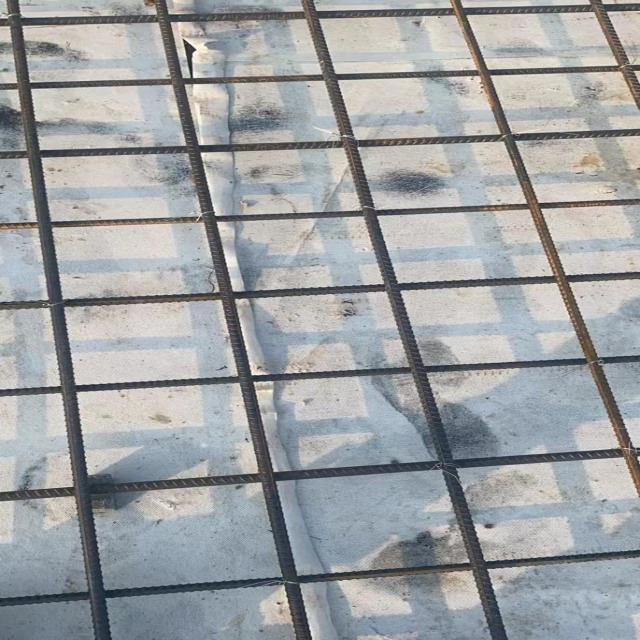ribbed bar: (297, 0, 507, 639), (154, 0, 313, 638), (449, 0, 638, 499), (5, 0, 110, 639), (0, 550, 638, 608), (0, 447, 638, 501), (0, 353, 638, 396), (0, 270, 638, 310), (0, 126, 638, 159), (0, 197, 638, 230), (0, 62, 638, 91), (0, 3, 638, 25), (588, 0, 638, 106)
